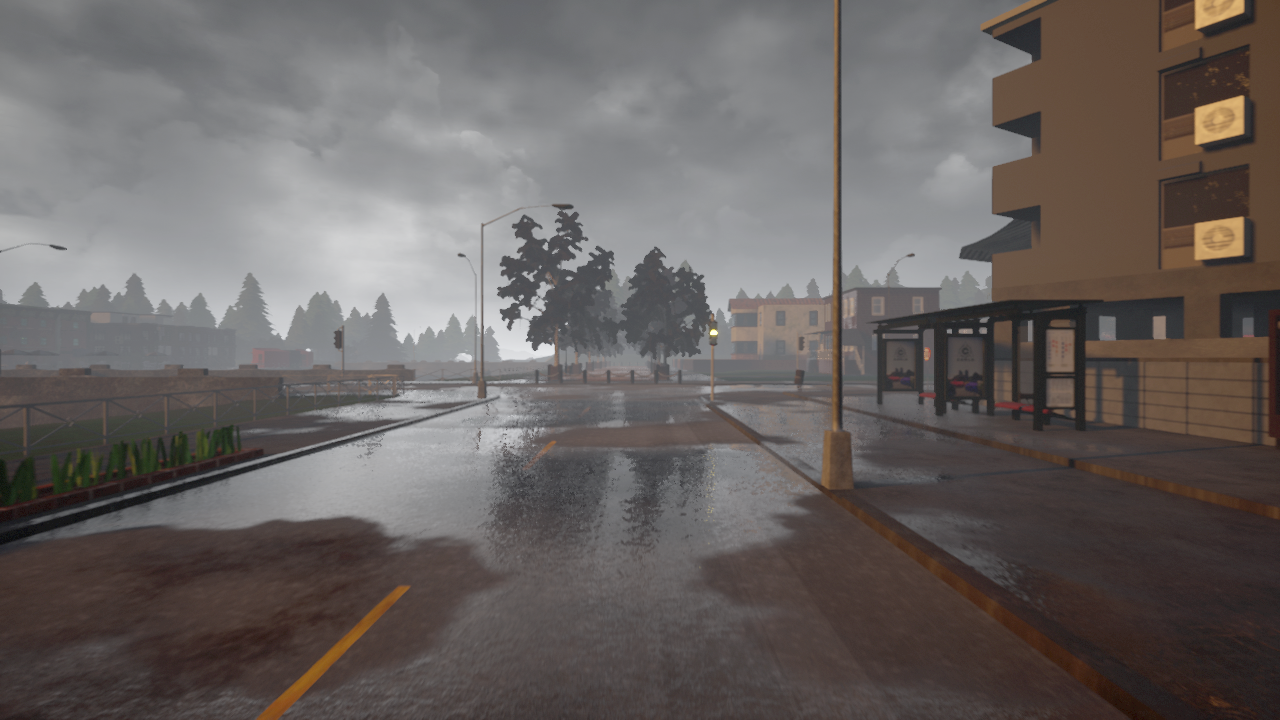yellow: (707, 321, 718, 346)
